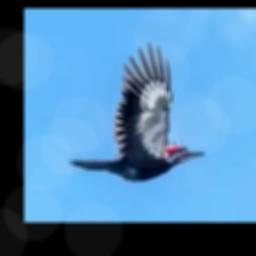Woodpecker: (68, 42, 206, 182)
